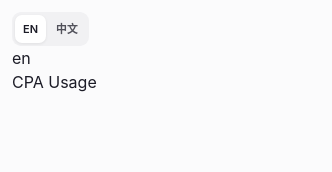
it: defaults to English, syncs html lang, and persists language toggles
Check: the heading reads "CPA Usage", box [12,72,97,92]
Click the button with aria-label "Switch language to Chinese" at x=67, y=29, box [48,15,86,43]
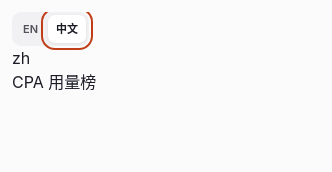
Check: the heading reads "CPA 用量榜", box [12,72,96,92]
